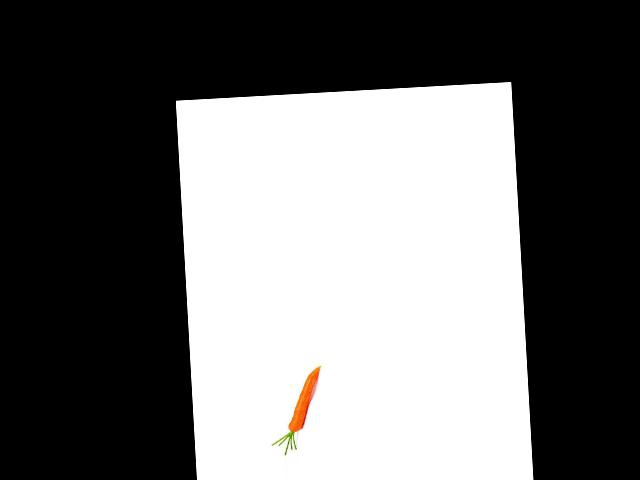carrot: (280, 364, 325, 440)
